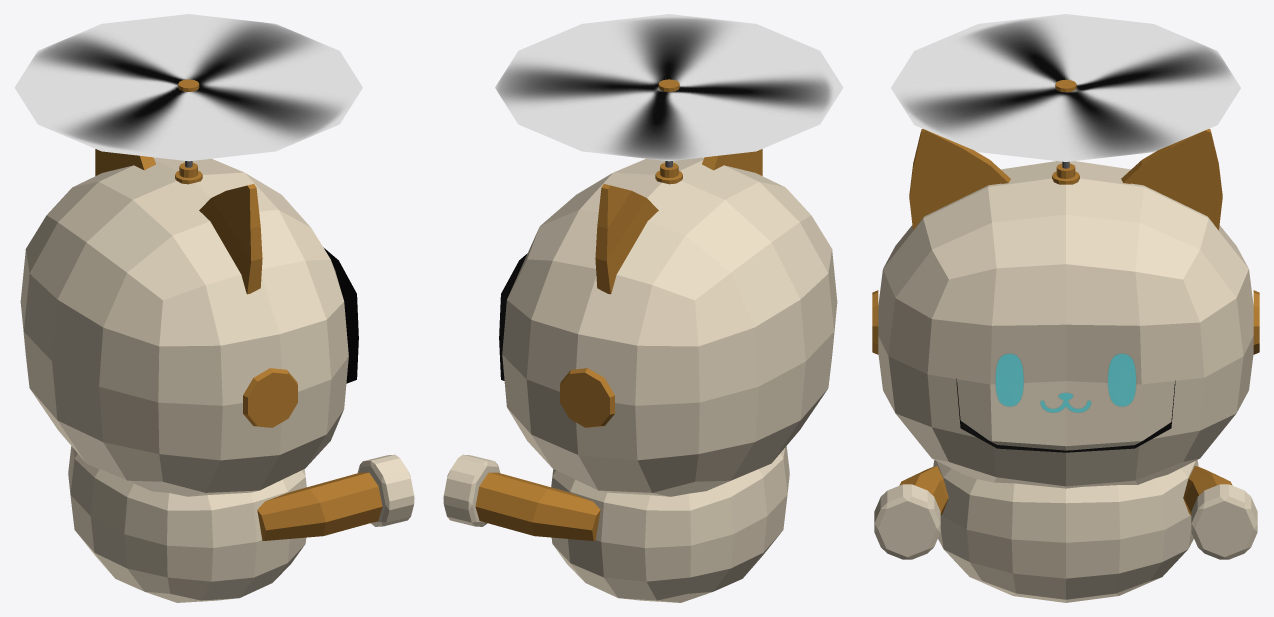
Rendered from 20260506_nyabitto.glb.
3 views of the same model, side by side, from view 1: azimuth 30°, elevation 25°; view 2: azimuth 150°, elevation 25°; view 3: azimuth 270°, elevation 25° (orthographic).
Visible parts, largest first — view 1: Cube, 円, Cube.001, 円柱.003, 立方体.001, 円.005, 円柱.004, 円.001; view 2: Cube, 円, Cube.001, 円柱.003, 立方体.001, 円.005, 円柱.004, 円.001; view 3: Cube, 円, Cube.001, 立方体.001, 円柱.004, nyabitto_face, 円柱.003, 円.001, 円.005.
Part boxes in pixels (x1,y1,x2,y2): Cube: (20,157,348,496); 円: (14,14,362,161); Cube.001: (68,446,306,602); 円柱.003: (257,472,382,540); 立方体.001: (95,149,262,294); 円.005: (243,368,297,427); 円柱.004: (357,454,414,526); 円.001: (323,247,358,383); Cube: (502,157,837,496); 円: (495,14,843,161); Cube.001: (551,446,789,602); 円柱.003: (475,472,600,540); 立方体.001: (595,149,762,294); 円.005: (560,368,614,427); 円柱.004: (443,454,500,526); 円.001: (499,253,527,380); Cube: (878,161,1253,488); 円: (891,14,1240,161); Cube.001: (933,460,1198,602); 立方体.001: (909,129,1222,230); 円柱.004: (874,484,1257,559); nyabitto_face: (995,353,1136,412); 円柱.003: (899,466,1232,515); 円.001: (956,378,1175,452); 円.005: (872,290,1259,354).
Bounding box in the file's own units: 2 × 3.18 × 2.21.
8 materials, 3 textured.
